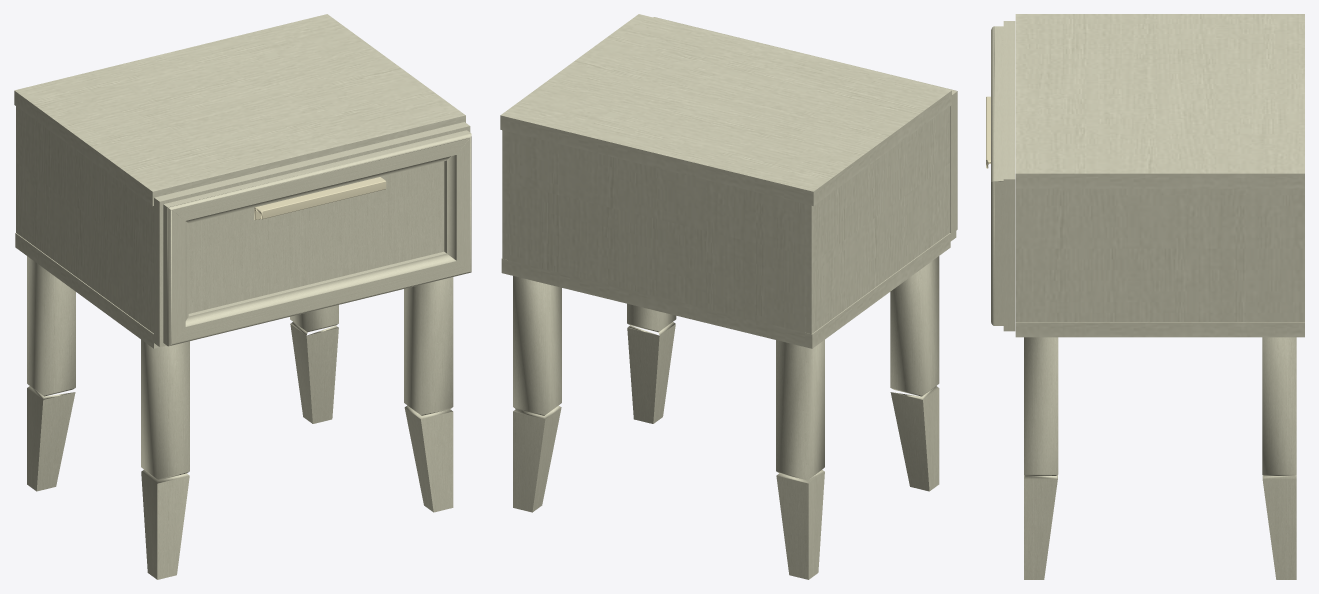
File: QkU23eMtOqq5POi5f-B9ZYqorQy-0tEF.glb
3 renders of one model, left to right at view 1: azimuth 30°, elevation 25°; view 2: azimuth 150°, elevation 25°; view 3: azimuth 270°, elevation 25°, orthographic. The views are drawn at different scales.
Visible parts, largest first — view 1: Горизонтальная_node, Ящик, Корпус, Вертикальная_node_1, 8_node, 10_node, Горизонтальная_node_0; view 2: Горизонтальная_node, Фронтальная_node, Корпус, Вертикальная_node_1, Горизонтальная_node_0, Ящик, Вертикальная_node_0; view 3: Горизонтальная_node, Вертикальная_node_0, Корпус, Ящик, Горизонтальная_node_0, 8_node.
Boxes of the visible parts, x1=… form: Горизонтальная_node: x1=14, y1=14, x2=465, y2=205; Ящик: x1=154, y1=122, x2=471, y2=346; Корпус: x1=27, y1=256, x2=453, y2=579; Вертикальная_node_1: x1=16, y1=106, x2=153, y2=333; 8_node: x1=163, y1=130, x2=471, y2=223; 10_node: x1=163, y1=204, x2=188, y2=346; Горизонтальная_node_0: x1=15, y1=233, x2=165, y2=348; Горизонтальная_node: x1=500, y1=14, x2=951, y2=205; Фронтальная_node: x1=509, y1=132, x2=804, y2=332; Корпус: x1=513, y1=256, x2=939, y2=579; Вертикальная_node_1: x1=804, y1=106, x2=949, y2=333; Горизонтальная_node_0: x1=501, y1=233, x2=950, y2=348; Ящик: x1=950, y1=91, x2=956, y2=241; Вертикальная_node_0: x1=502, y1=130, x2=508, y2=260; Горизонтальная_node: x1=1015, y1=14, x2=1304, y2=188; Вертикальная_node_0: x1=1015, y1=188, x2=1304, y2=321; Корпус: x1=1024, y1=337, x2=1296, y2=579; Ящик: x1=986, y1=21, x2=1015, y2=331; Горизонтальная_node_0: x1=1015, y1=322, x2=1304, y2=337; 8_node: x1=991, y1=26, x2=1003, y2=181.
Bounding box in the file's own units: 500 × 600 × 422.
Materials: 2 (1 with a texture image).
